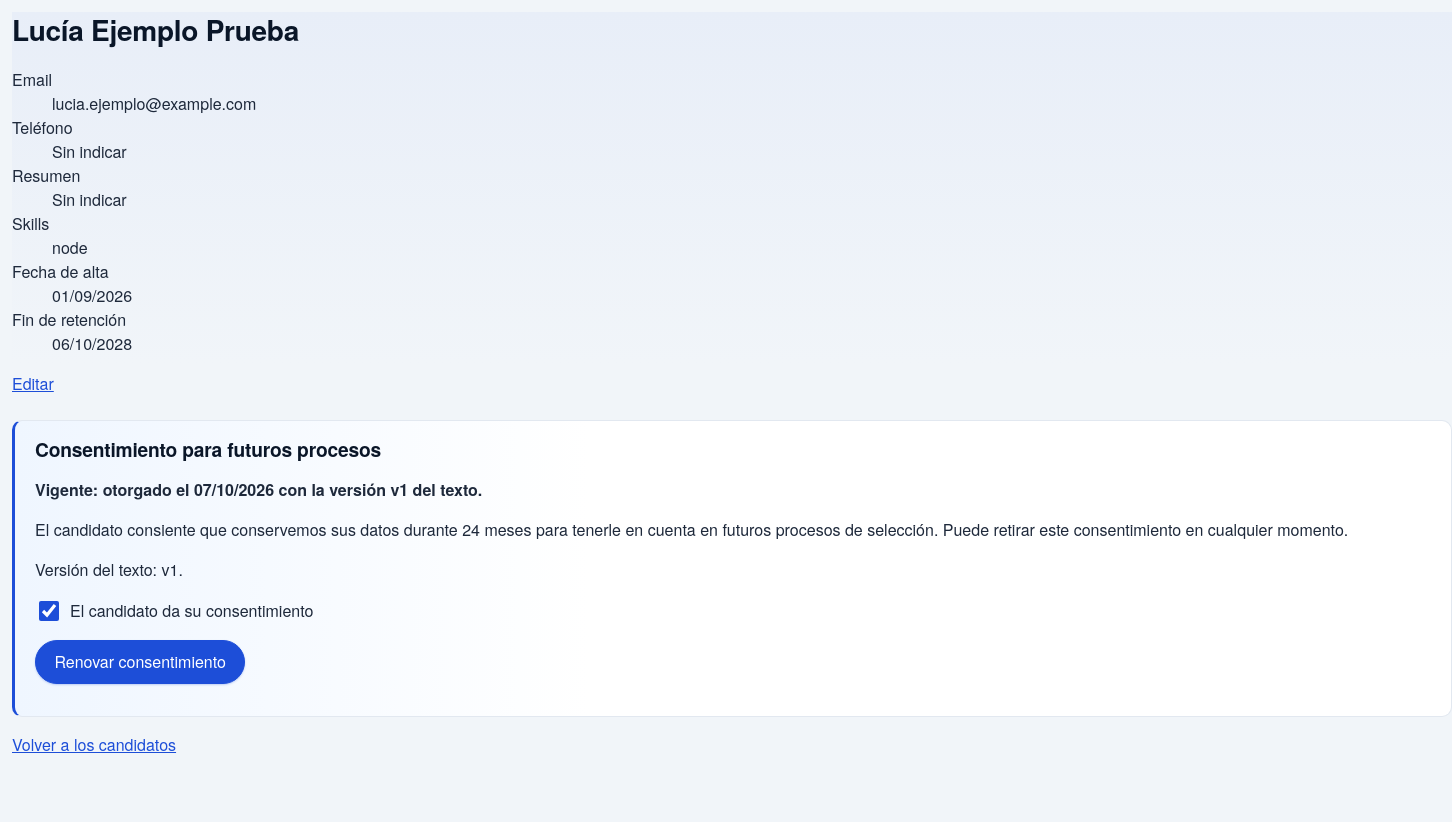
Test: CandidateDetailScreen · respuesta con forma inesperada (CLIENT_BAD_RESPONSE) › un 200 con forma inesperada al renovar → alerta CLIENT_BAD_RESPONSE y la ficha no cambia
The width and height of the screenshot is (1452, 822).
Click the button "Renovar consentimiento". click: [140, 662]
box: [35,640,245,684]
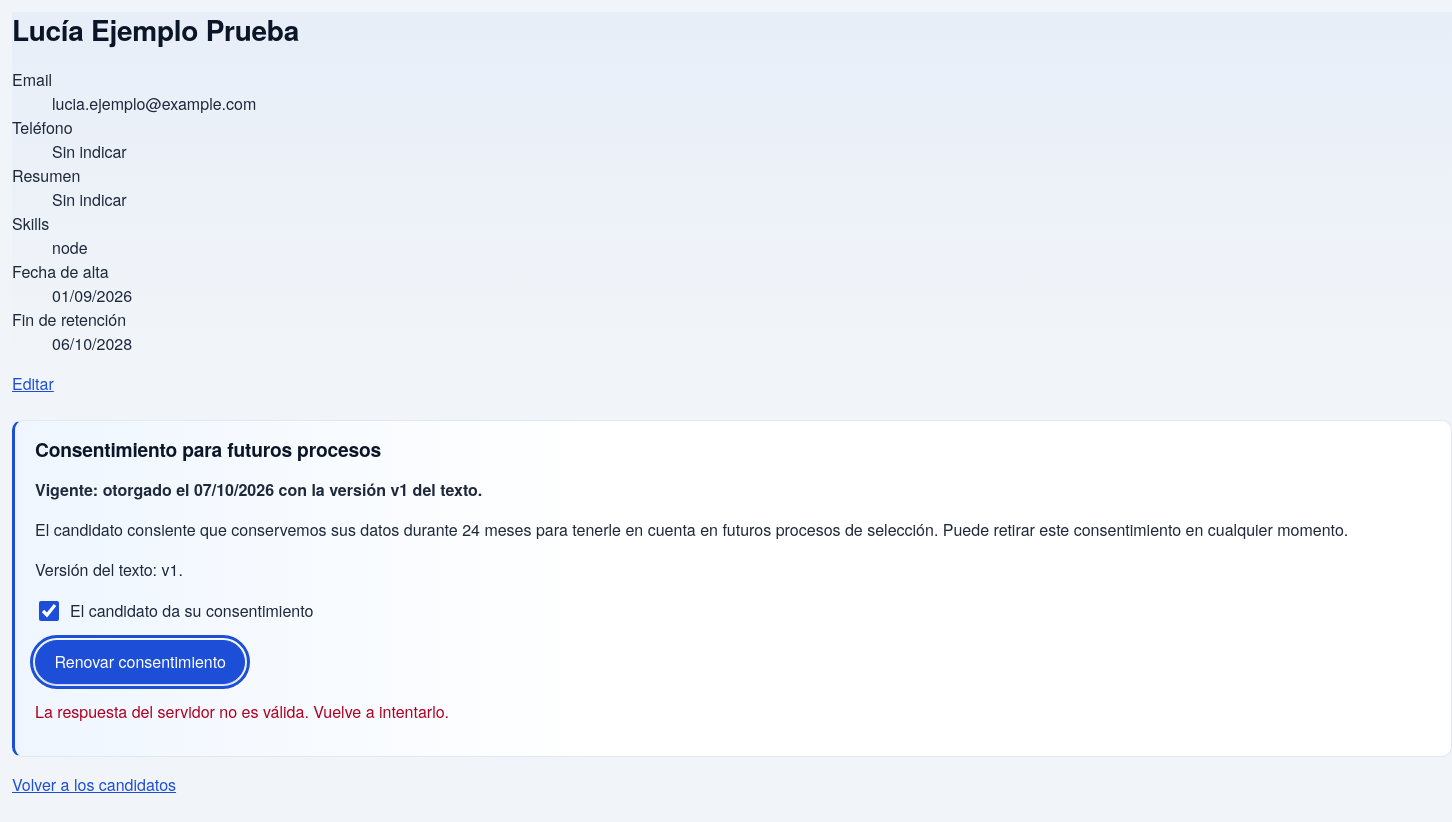
Expected: the checkbox labelled "El candidato da su consentimiento" is checked, [39,601,59,621]
Result: the message reads "La respuesta del servidor no es válida. Vuelve a intentarlo." at [35,700,449,723]
